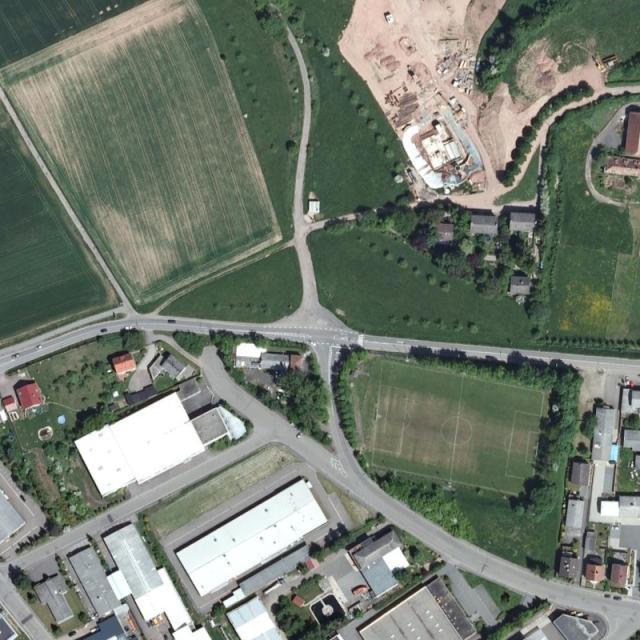vehicle: (68, 630, 78, 637), (11, 353, 21, 359), (296, 432, 303, 439), (100, 328, 108, 334), (576, 612, 584, 618), (167, 319, 176, 324), (570, 610, 577, 615), (125, 326, 133, 330), (614, 596, 622, 600), (35, 346, 42, 350), (604, 594, 610, 598)
